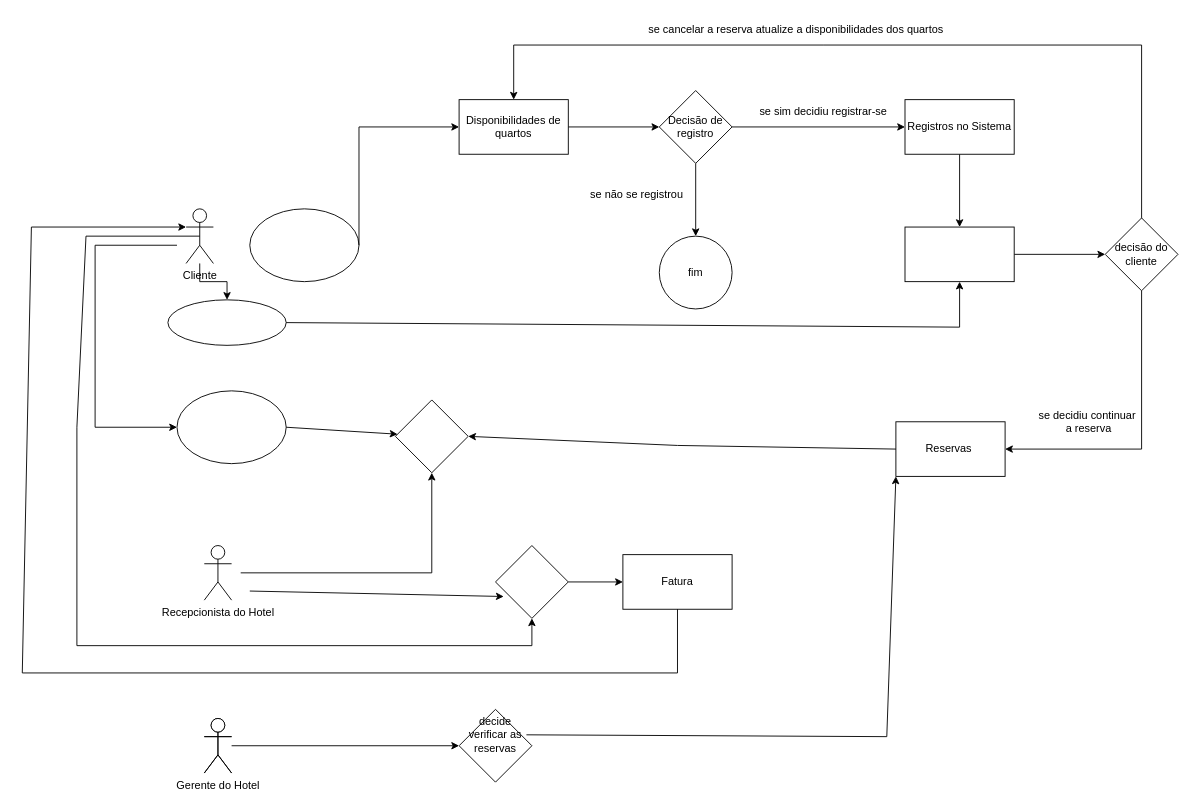
Some shapes in this 1194 by 807 pixel diagram are drawn without their labels. The shapes that lost their labels are listed below. From the top down, each one's centre as x and y in pixels, then its label:
At pixel 304 245: "cliente verifica disponibilidades".
At pixel 959 254: "Número de registro gerado".
At pixel 226 322: "Decide cancelar a reserva já feita".
At pixel 231 427: "Cliente chega ao hotel".
At pixel 431 436: "registro de check-in".
At pixel 531 581: "check-out".
